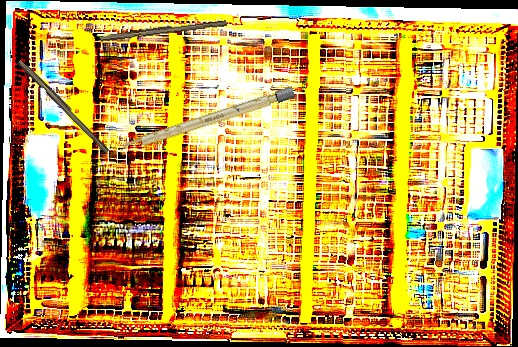Scalpel Handle: (118, 86, 296, 154), (15, 57, 113, 155), (99, 16, 228, 44)
